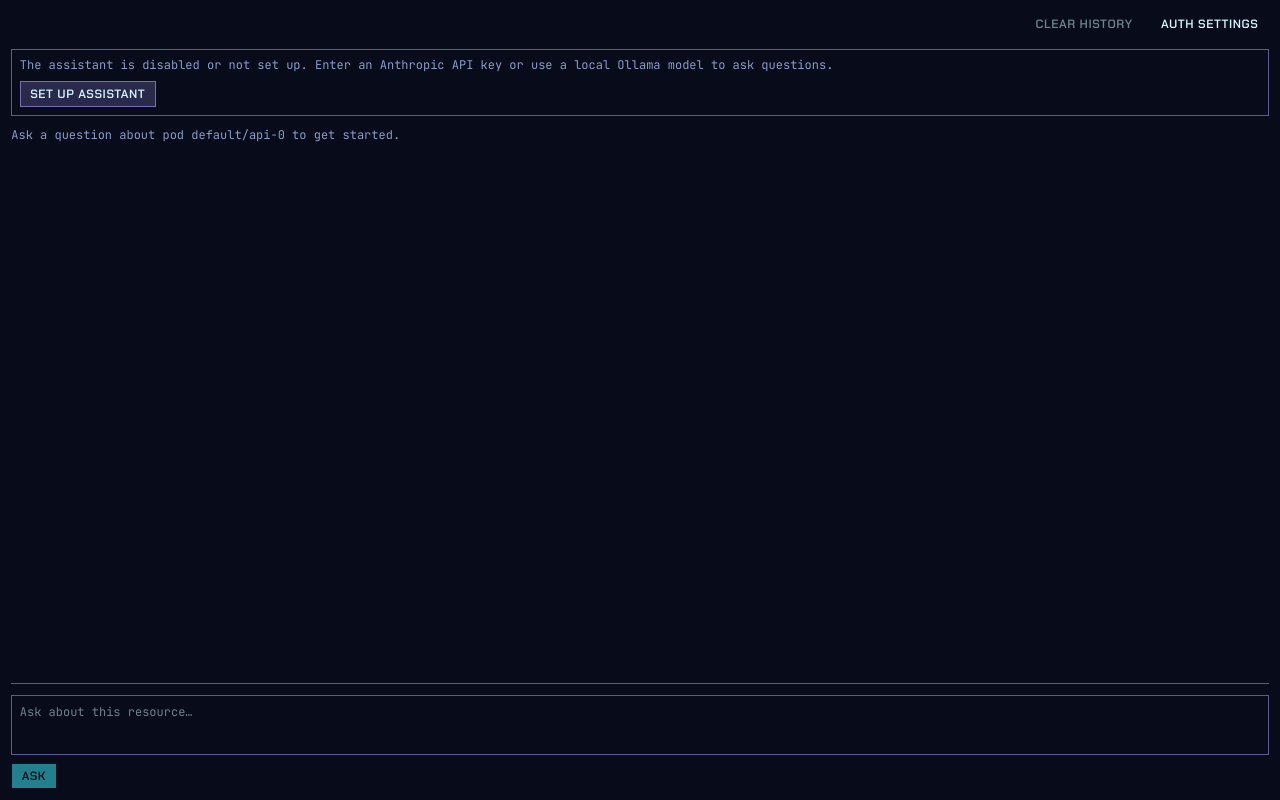
AgentPanel › auth gating (FR-003/FR-013) › with no assistant configured shows a setup prompt and blocks question submission
Check: the element with test id "agent-ops-setup-required" is shown, box [11,49,1269,116]
Check: the button with test id "agent-ops-submit" is disabled, box [11,762,57,789]
In the text box with test id "agent-ops-question-input": (640, 725) [11,695,1269,755], type "Why is this pod crashing?"
Then press Enter
Click the button with test id "agent-ops-setup-open": (88, 94) [20,81,156,107]
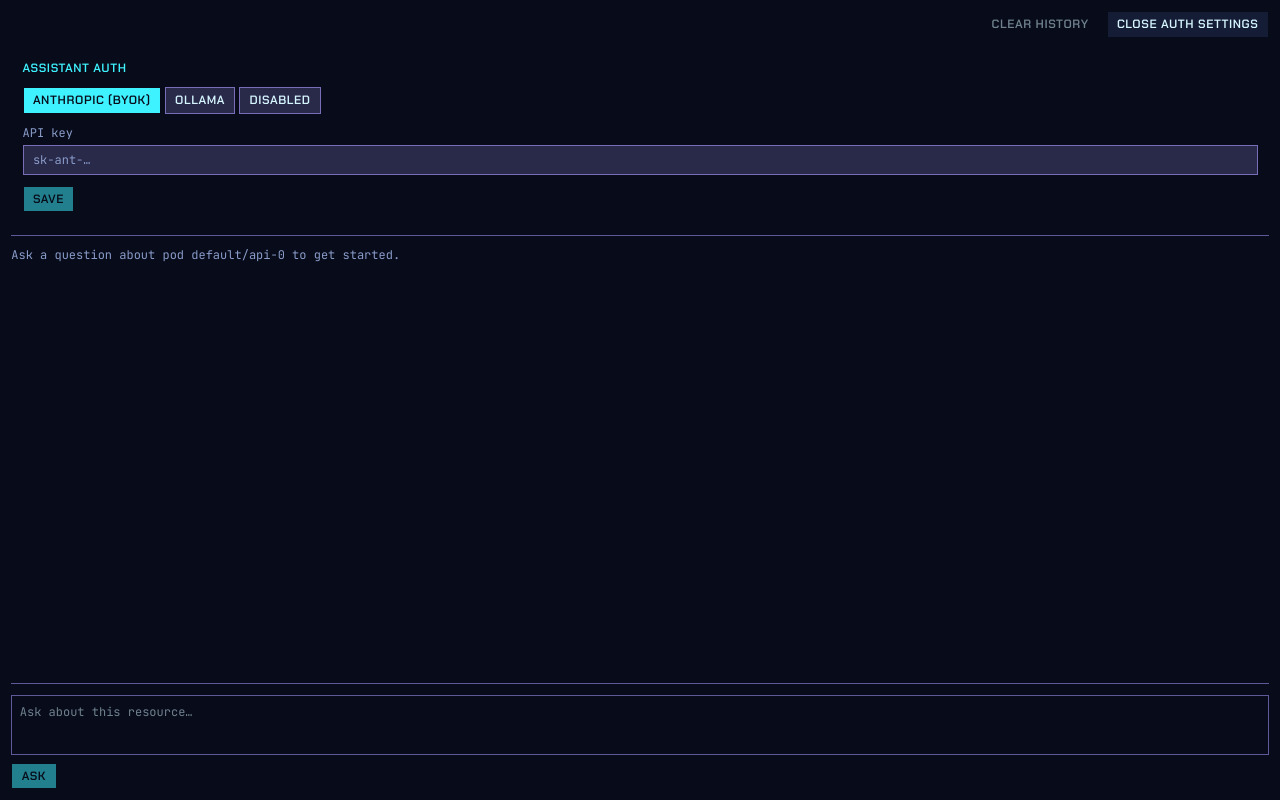
Check: the element with test id "agent-ops-auth-setup" is shown, box [11,49,1269,223]
